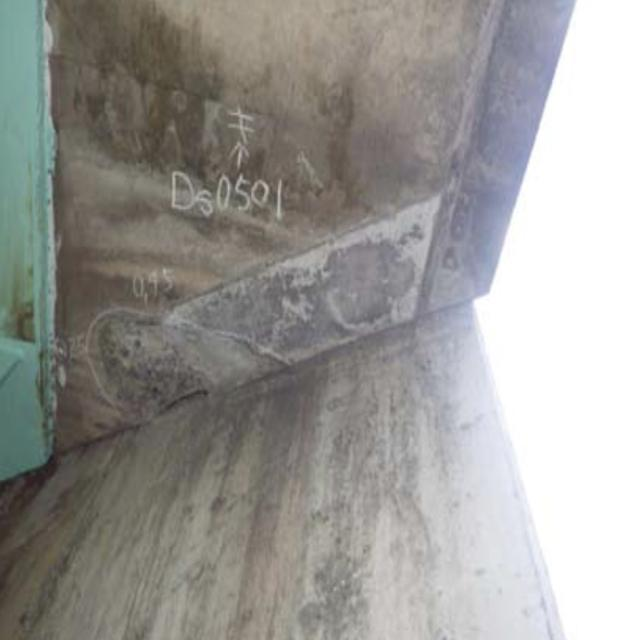spalling: (94, 300, 243, 426)
